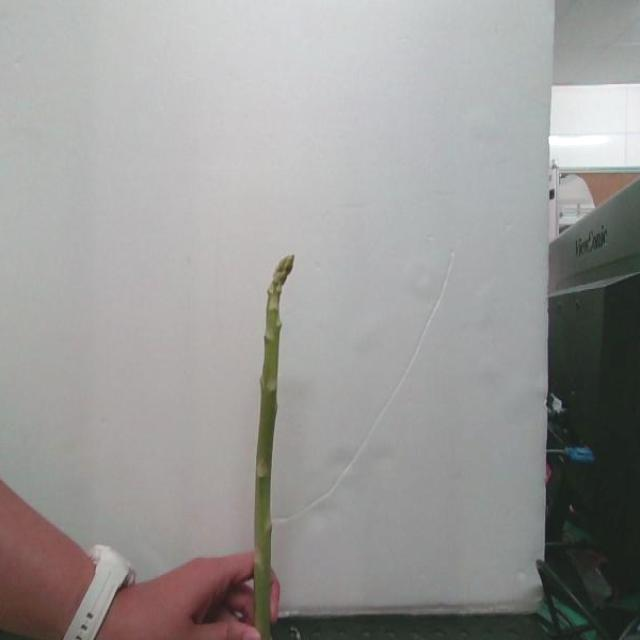aspargus: (252, 257, 294, 640)
